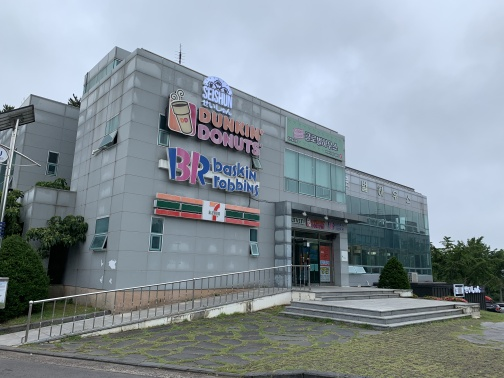Global House: (9, 47, 437, 320)
